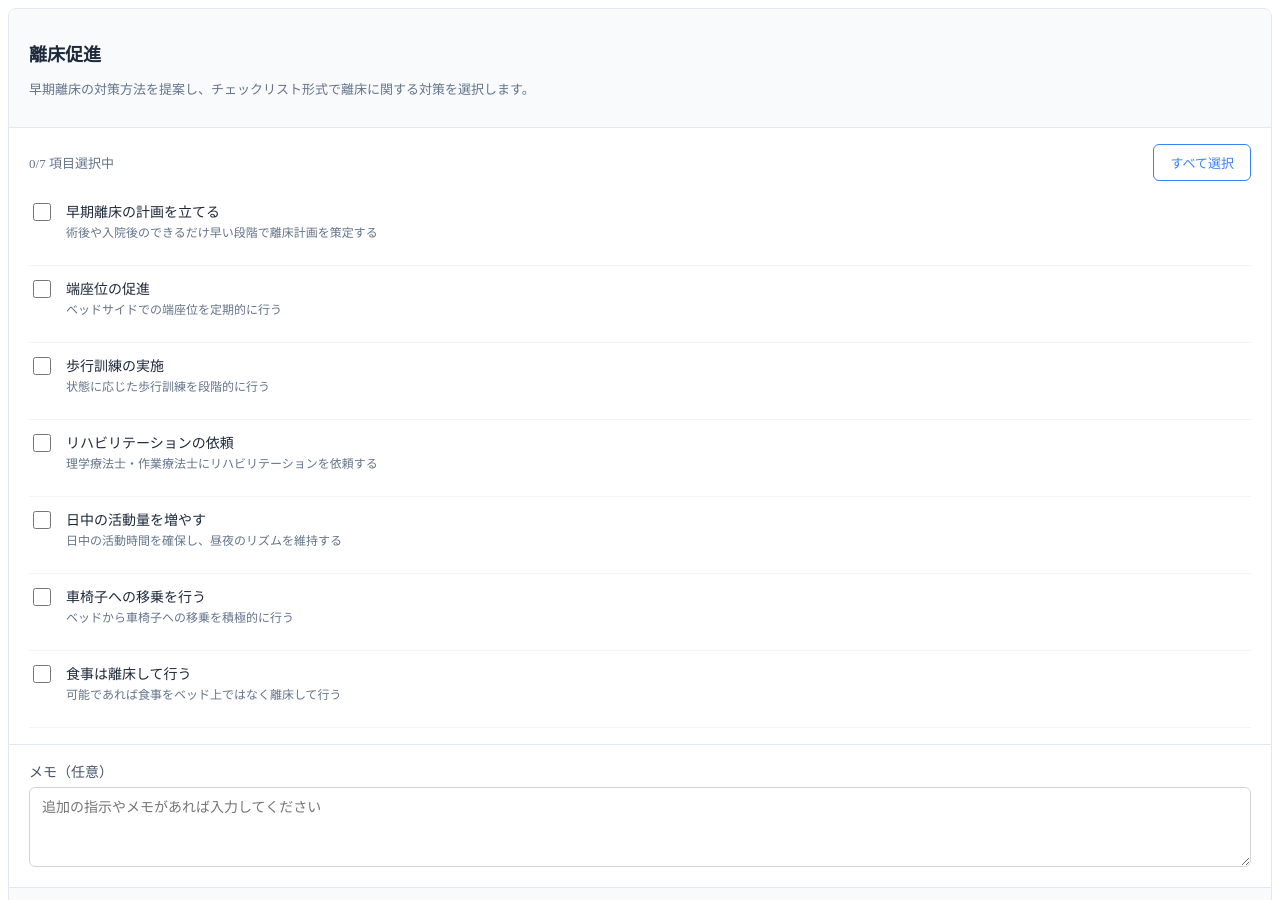
Test: ChecklistForm › すべて選択後にすべて解除ボタンが表示される
Click the button "すべて選択" at (1202, 162), box [1153,144,1251,181]
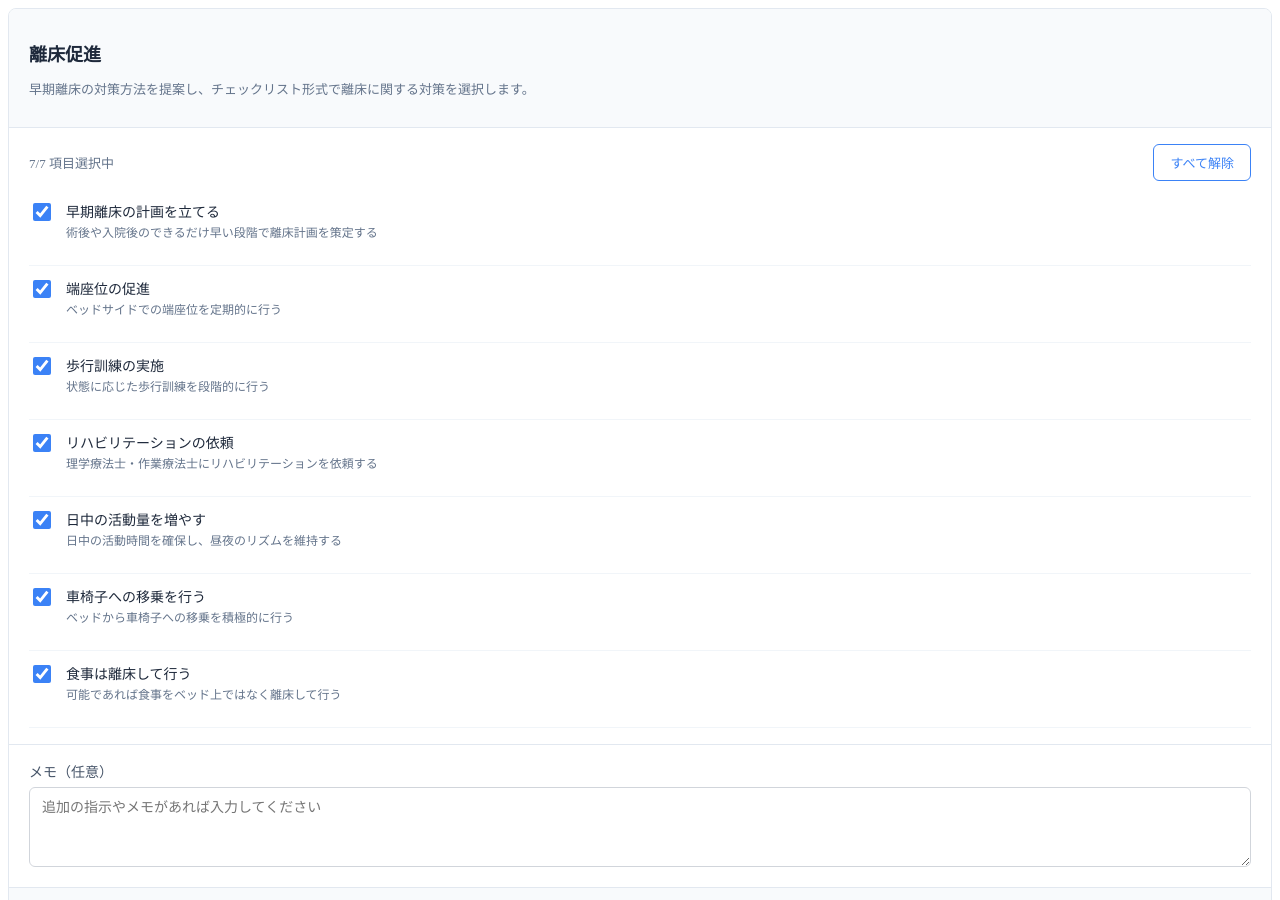
Expected: the button "すべて解除" is shown, [1153,144,1251,181]
